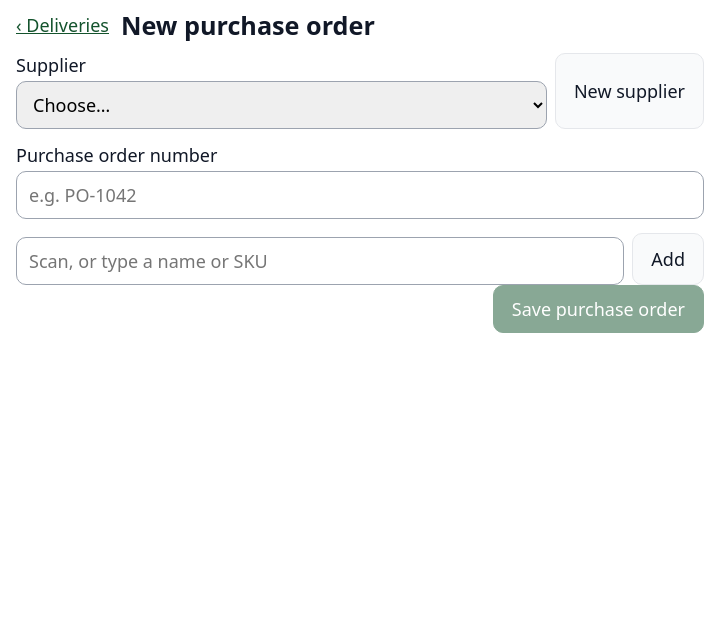
Test: new purchase order screen › keeps the form and reuses the key when saving fails
Select "Veg Mandi" in the dropdown labelled "Supplier" at (281, 105), box [16,81,547,129]
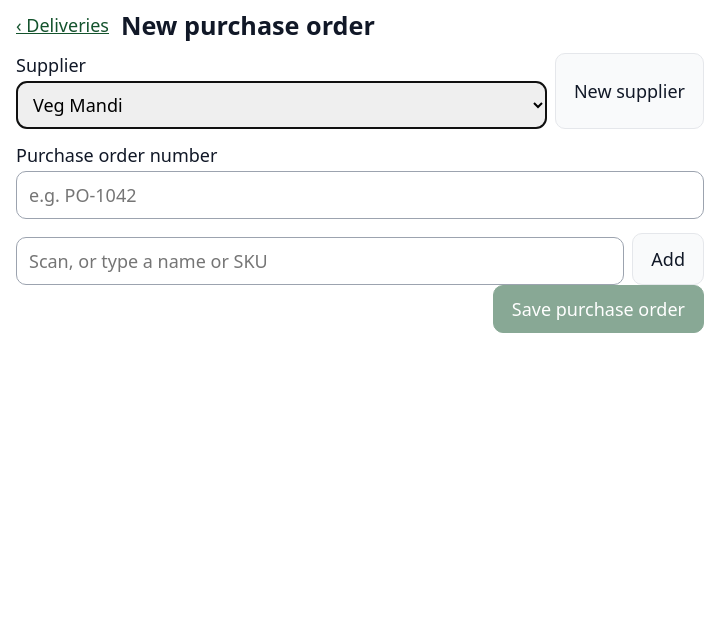
Type "PO-1" into the field labelled "Purchase order number" at (360, 195), box [16,171,704,219]
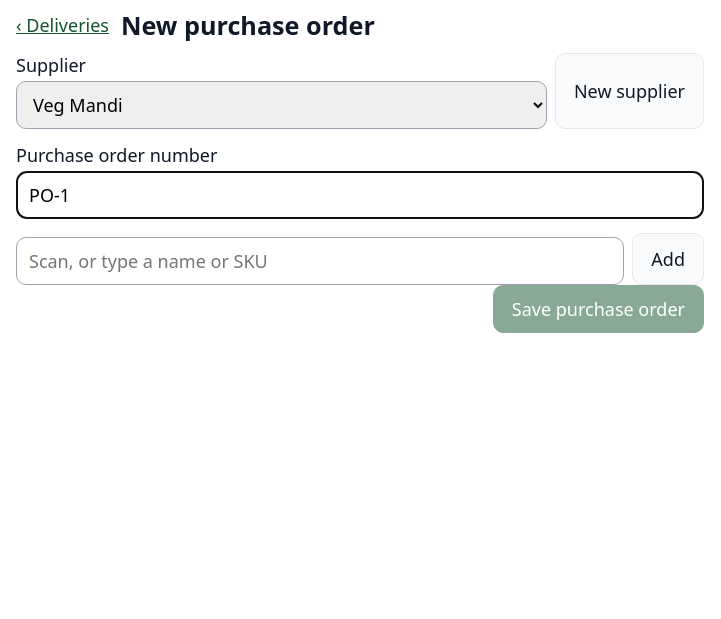
Type "8901" into the field named "Add an item" at (320, 261), box [16,237,624,285]
Then press Enter
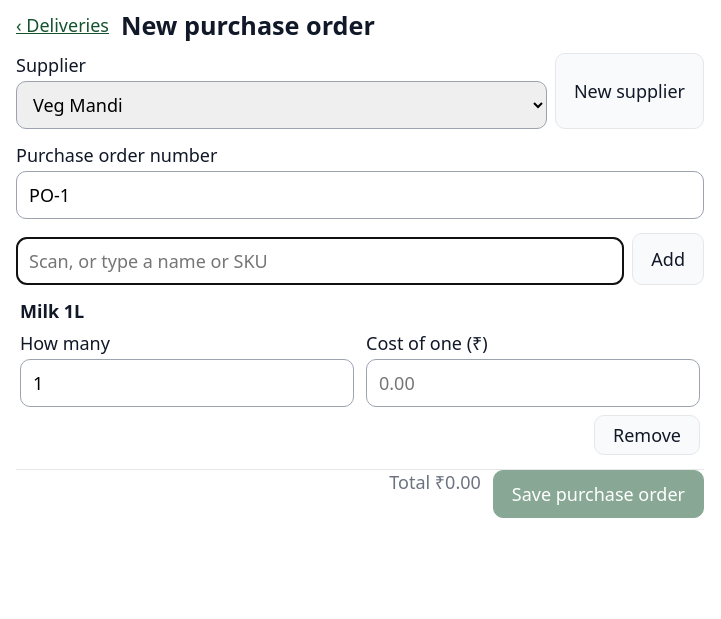
Type "30" into the field named "Cost of one Milk 1L" at (533, 383), box [366,359,700,407]
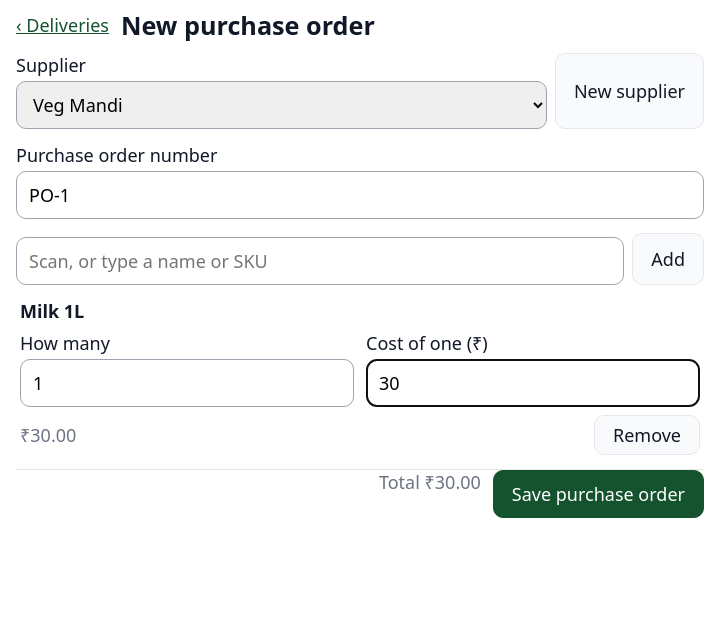
Click the button "Save purchase order" at (598, 494), box [493,470,704,518]
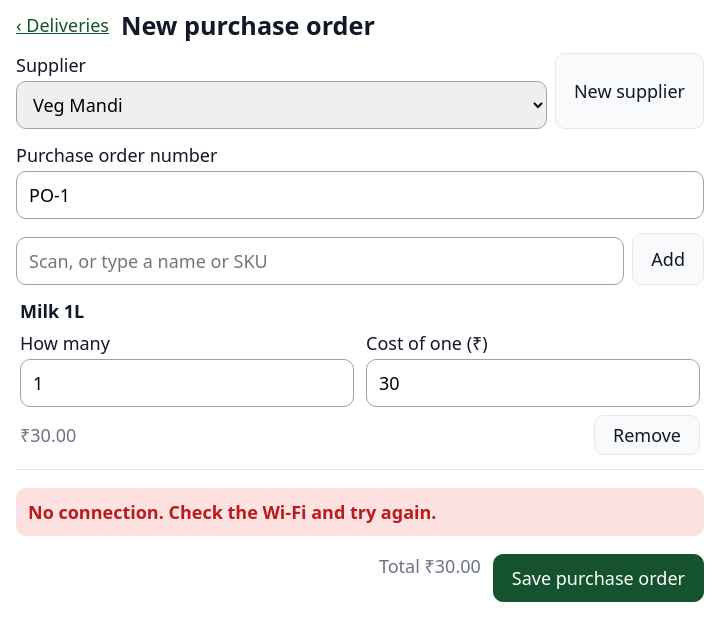
Expected: the message shows "No connection", [28,500,436,524]
Click the button "Save purchase order" at (598, 578), box [493,554,704,602]
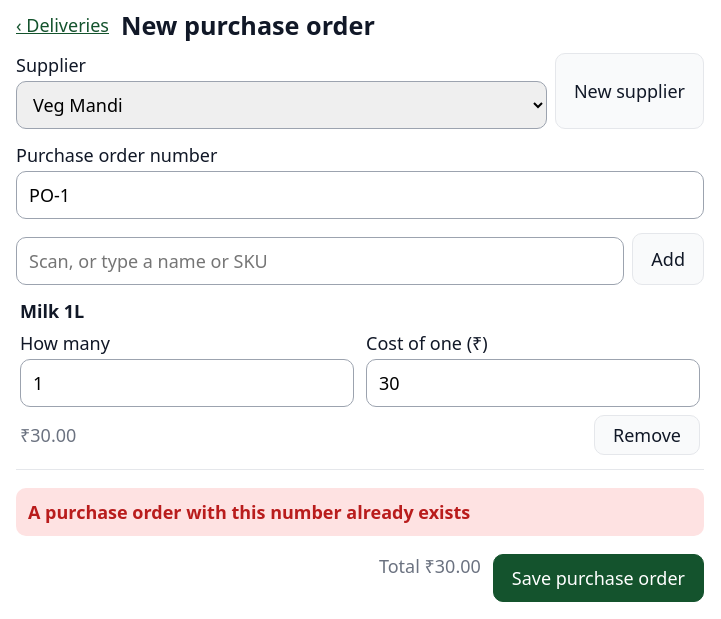
Expected: the text "A purchase order with this number already exists" is shown, [16,488,704,536]
